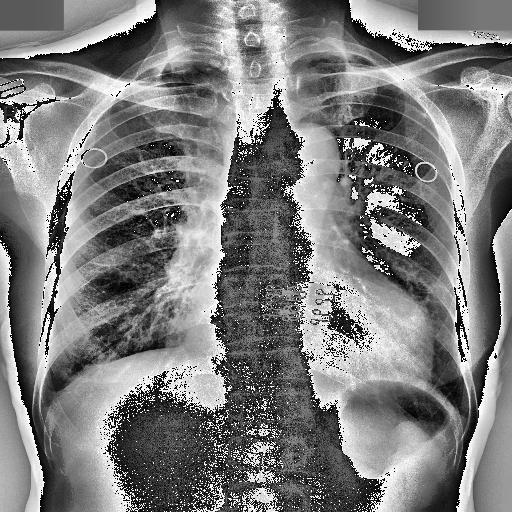0- Aortic enlargement: (284, 124, 340, 182), (296, 126, 340, 162)
11- Pleural thickening: (142, 58, 211, 76), (158, 50, 214, 72), (34, 386, 64, 424), (292, 44, 354, 60), (300, 50, 355, 66), (291, 48, 350, 62)
13- Pulmonary fibrosis: (146, 64, 208, 83)
3- Cardiomegaly: (182, 287, 432, 384), (184, 285, 438, 380), (178, 306, 436, 380)
